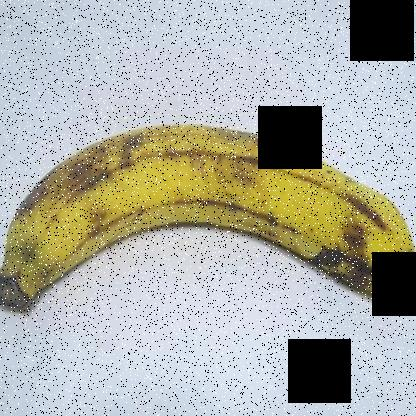overripe: (1, 117, 408, 331)
